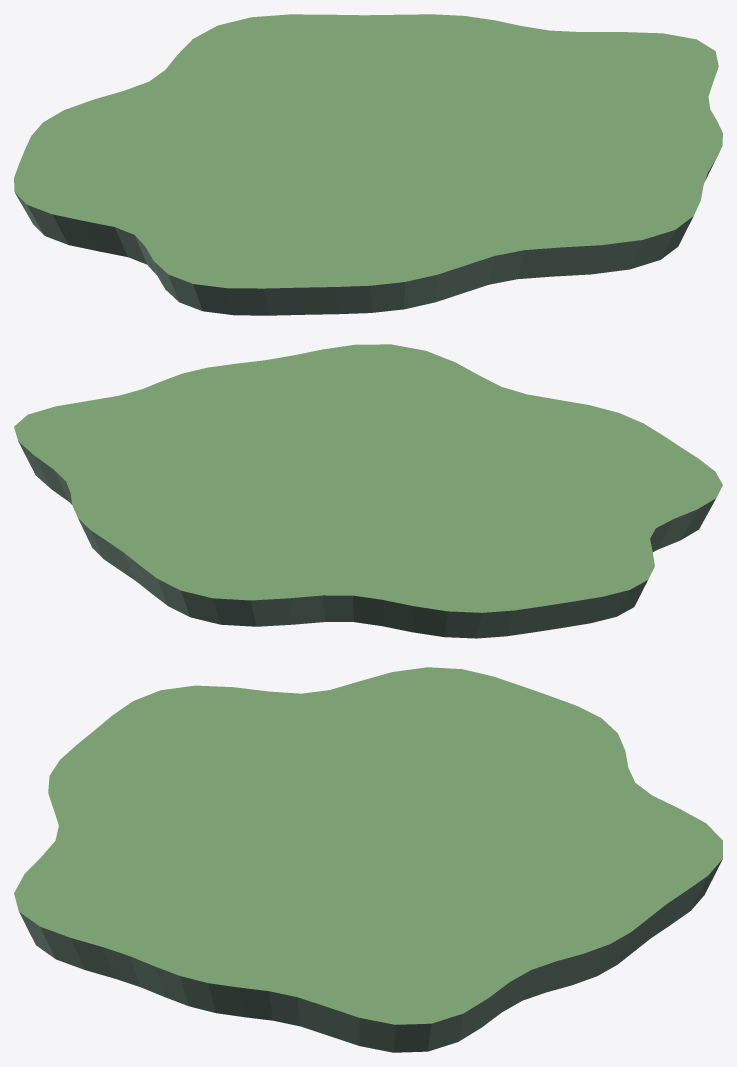
The model's file is SM_WF_Ground.fbx.
The picture shows the model from 3 angles, top to bottom: view 1: azimuth 30°, elevation 25°; view 2: azimuth 150°, elevation 25°; view 3: azimuth 270°, elevation 25°; orthographic projection. The views are drawn at different scales.
Parts seen in each view (by area): view 1: SM_WF_Ground; view 2: SM_WF_Ground; view 3: SM_WF_Ground.
Part boxes in pixels (x1=…): SM_WF_Ground: x1=14, y1=14, x2=722, y2=315; SM_WF_Ground: x1=14, y1=344, x2=722, y2=638; SM_WF_Ground: x1=14, y1=667, x2=722, y2=1052.
Bounding box in the file's own units: 723 × 606 × 35.
